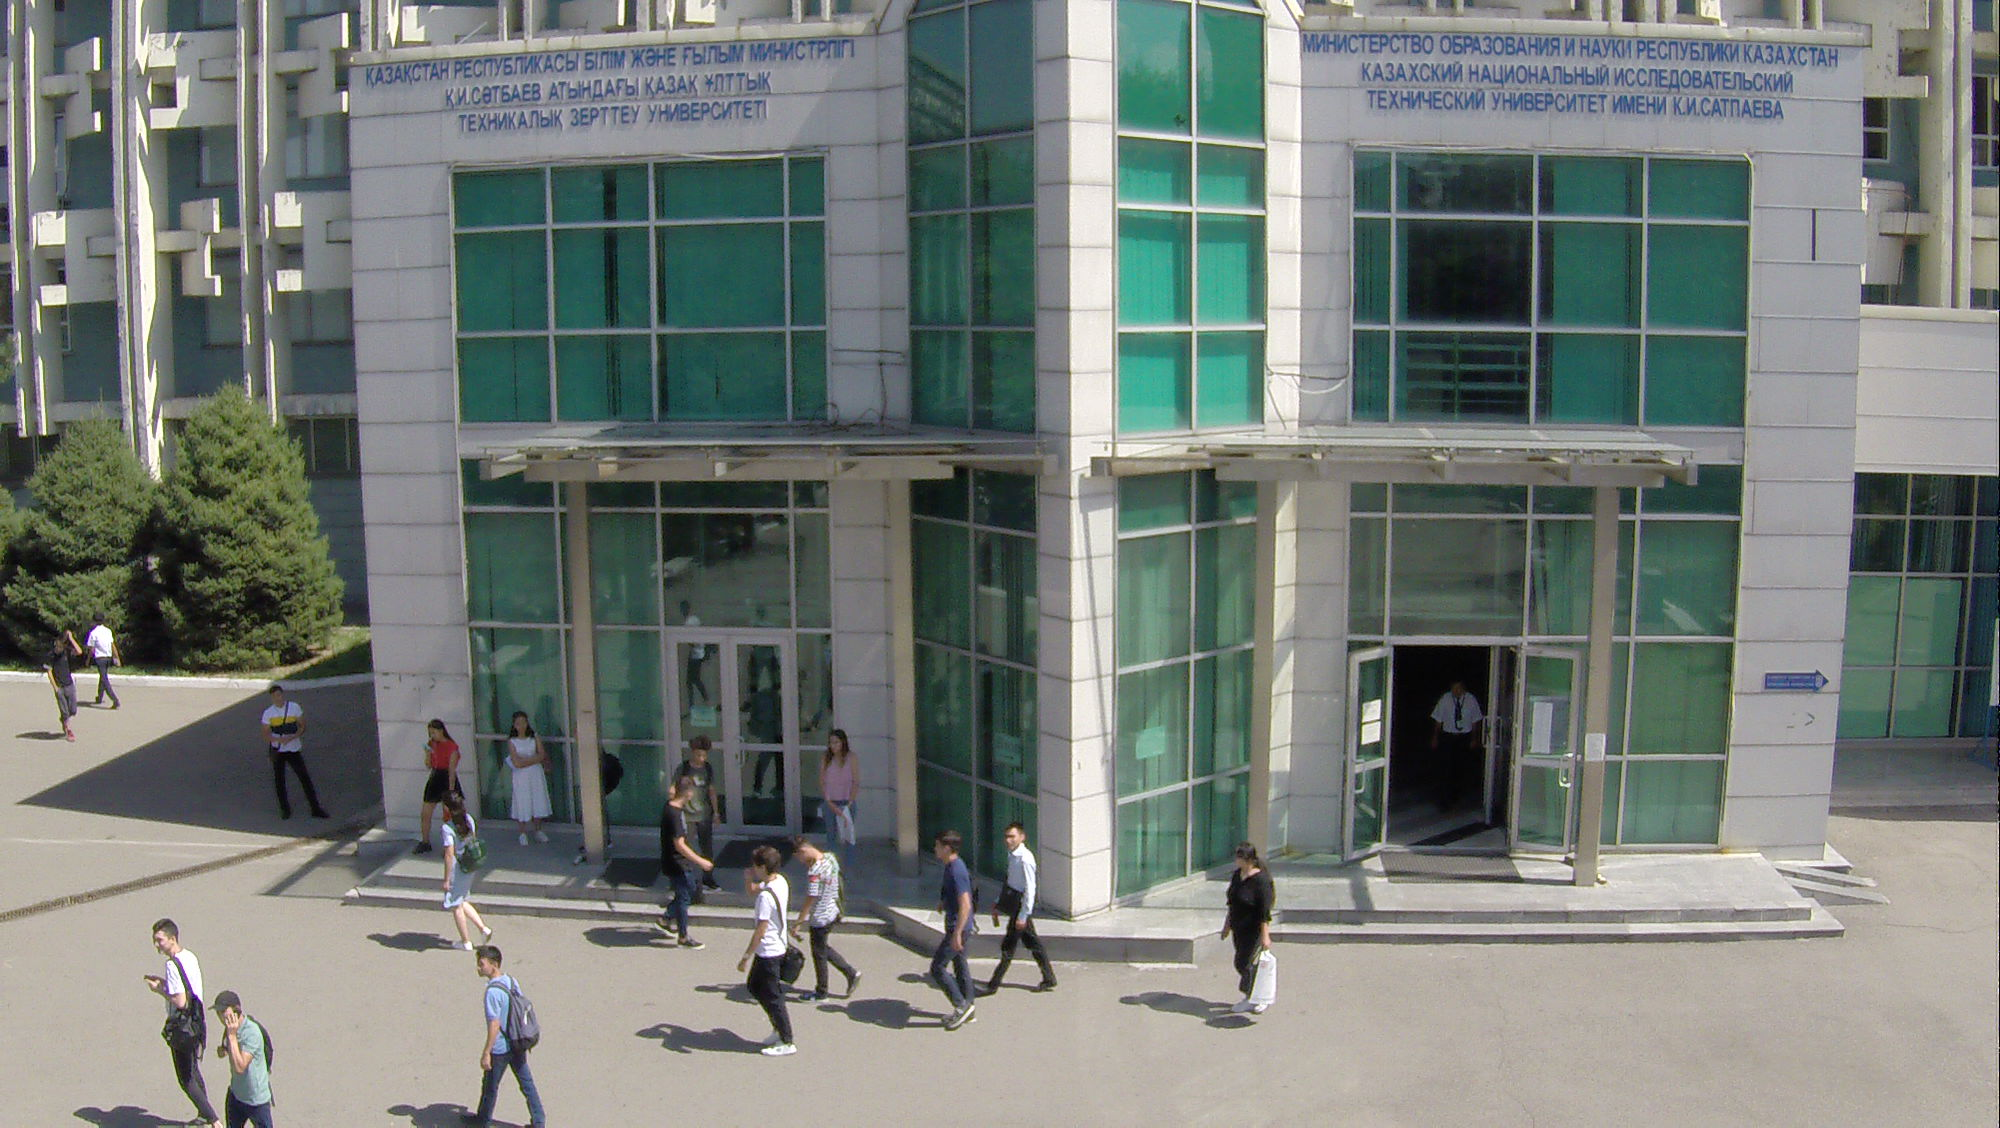person: (729, 842, 809, 1061), (140, 921, 209, 1128), (470, 946, 547, 1128), (922, 829, 985, 1035), (794, 836, 861, 1005), (430, 789, 497, 946), (1221, 839, 1282, 1014), (992, 814, 1045, 1000), (207, 987, 278, 1128), (659, 773, 712, 953), (261, 684, 321, 827), (1422, 677, 1484, 807), (409, 716, 464, 860), (500, 706, 554, 847), (38, 626, 87, 745), (680, 735, 724, 861), (818, 732, 866, 848), (85, 610, 122, 711)
